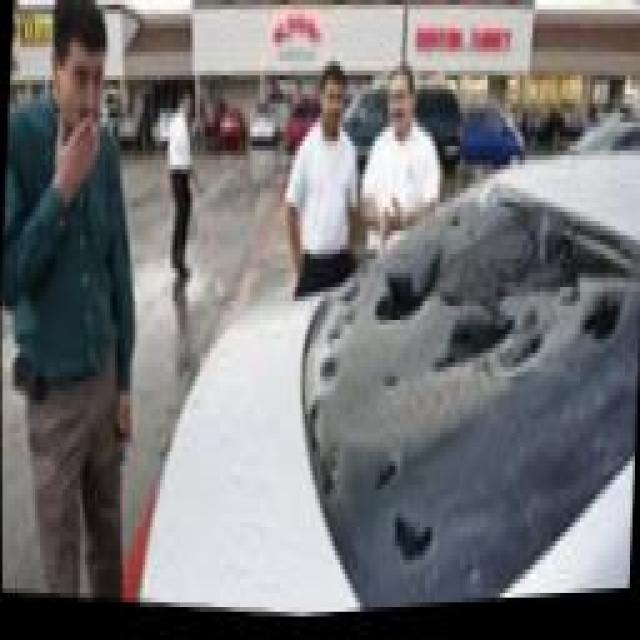Windshield: (307, 183, 640, 615)
